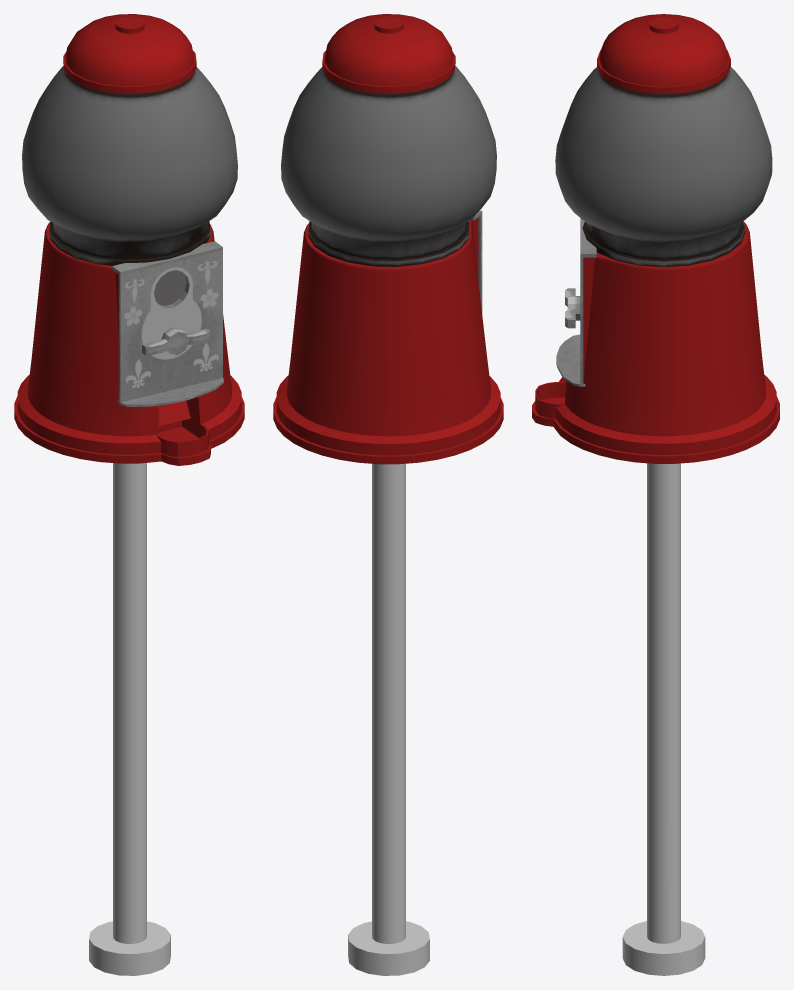
File: GumballMachine.fbx
3 views of the same model, side by side, from view 1: azimuth 30°, elevation 25°; view 2: azimuth 150°, elevation 25°; view 3: azimuth 270°, elevation 25° (orthographic).
Visible parts, largest first — view 1: SM_MaqChicle, SM_MaqSoporte; view 2: SM_MaqChicle, SM_MaqSoporte; view 3: SM_MaqChicle, SM_MaqSoporte.
Part boxes in pixels (<box>): SM_MaqChicle: <box>14,14,244,465</box>; SM_MaqSoporte: <box>89,463,170,975</box>; SM_MaqChicle: <box>273,14,503,464</box>; SM_MaqSoporte: <box>348,463,429,975</box>; SM_MaqChicle: <box>532,14,779,463</box>; SM_MaqSoporte: <box>622,463,705,975</box>.
Bounding box in the file's own units: 28.99 × 130 × 31.24.
